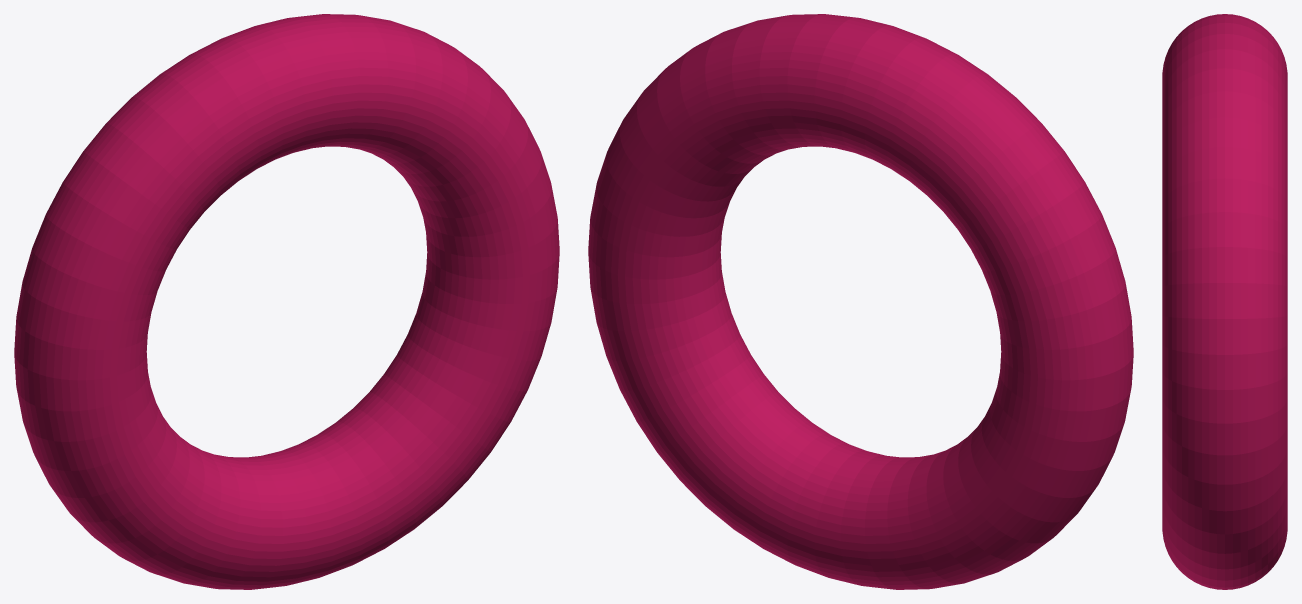
3 renders of one model, left to right at view 1: azimuth 30°, elevation 25°; view 2: azimuth 150°, elevation 25°; view 3: azimuth 270°, elevation 25°, orthographic. The views are drawn at different scales.
Visible parts, largest first — view 1: world; view 2: world; view 3: world.
Boxes of the visible parts, x1,y1,x2,y2 form: world: [14, 14, 559, 589]; world: [588, 14, 1133, 589]; world: [1162, 14, 1287, 589].
Size of the model in its own units: 34.93 by 34.86 by 7.59.
